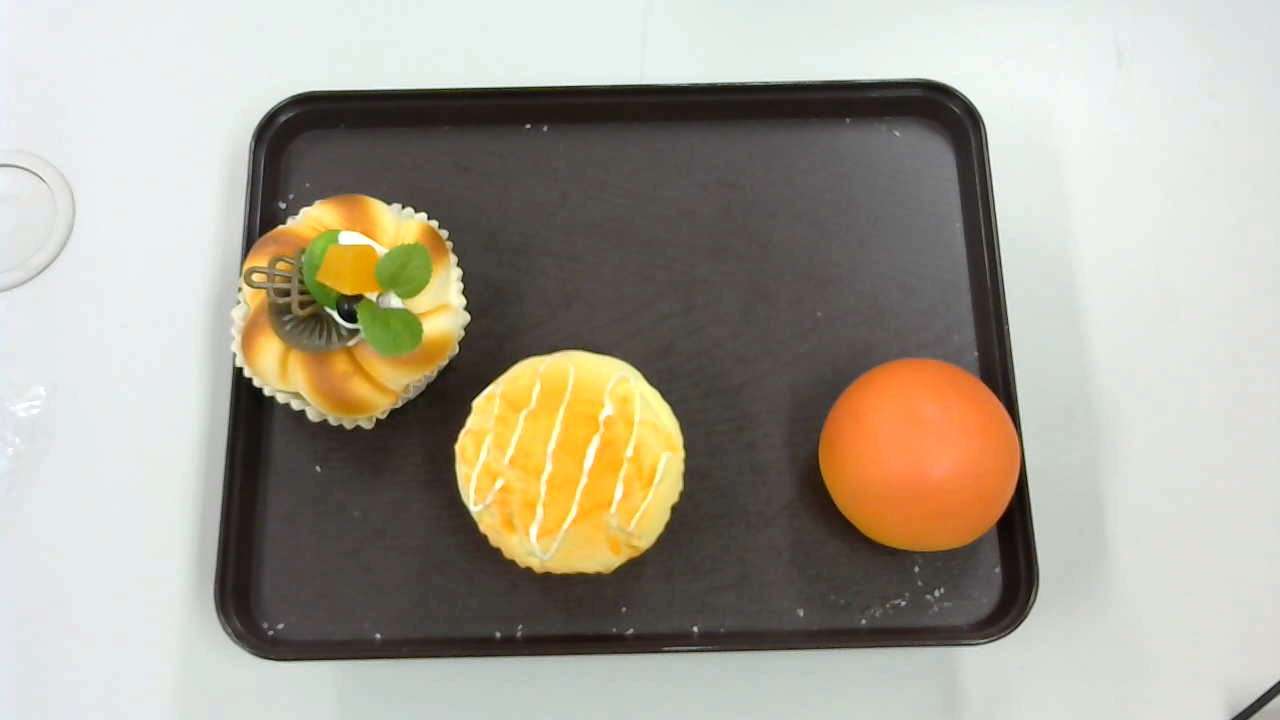bun: (817, 358, 1021, 552)
cupcake: (454, 350, 686, 577)
fruit tart: (231, 193, 468, 431)
